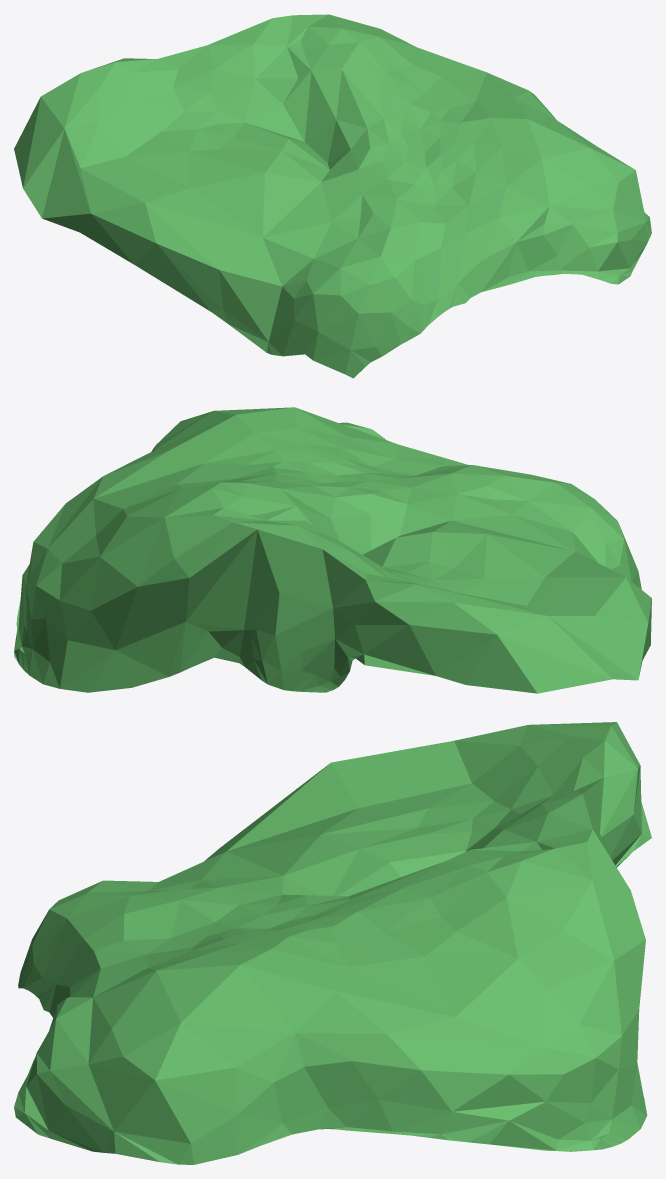
Rendered from ground_041.fbx.
3 renders of one model, top to bottom at view 1: azimuth 30°, elevation 25°; view 2: azimuth 150°, elevation 25°; view 3: azimuth 270°, elevation 25°, orthographic. The views are drawn at different scales.
Parts seen in each view (by area): view 1: ground.041; view 2: ground.041; view 3: ground.041.
Boxes of the visible parts, x1=… form: ground.041: x1=14, y1=14, x2=651, y2=378; ground.041: x1=14, y1=407, x2=651, y2=693; ground.041: x1=14, y1=722, x2=651, y2=1164.
Bounding box in the file's own units: 2305 × 803 × 1858.
Materials: 1 (1 with a texture image).
